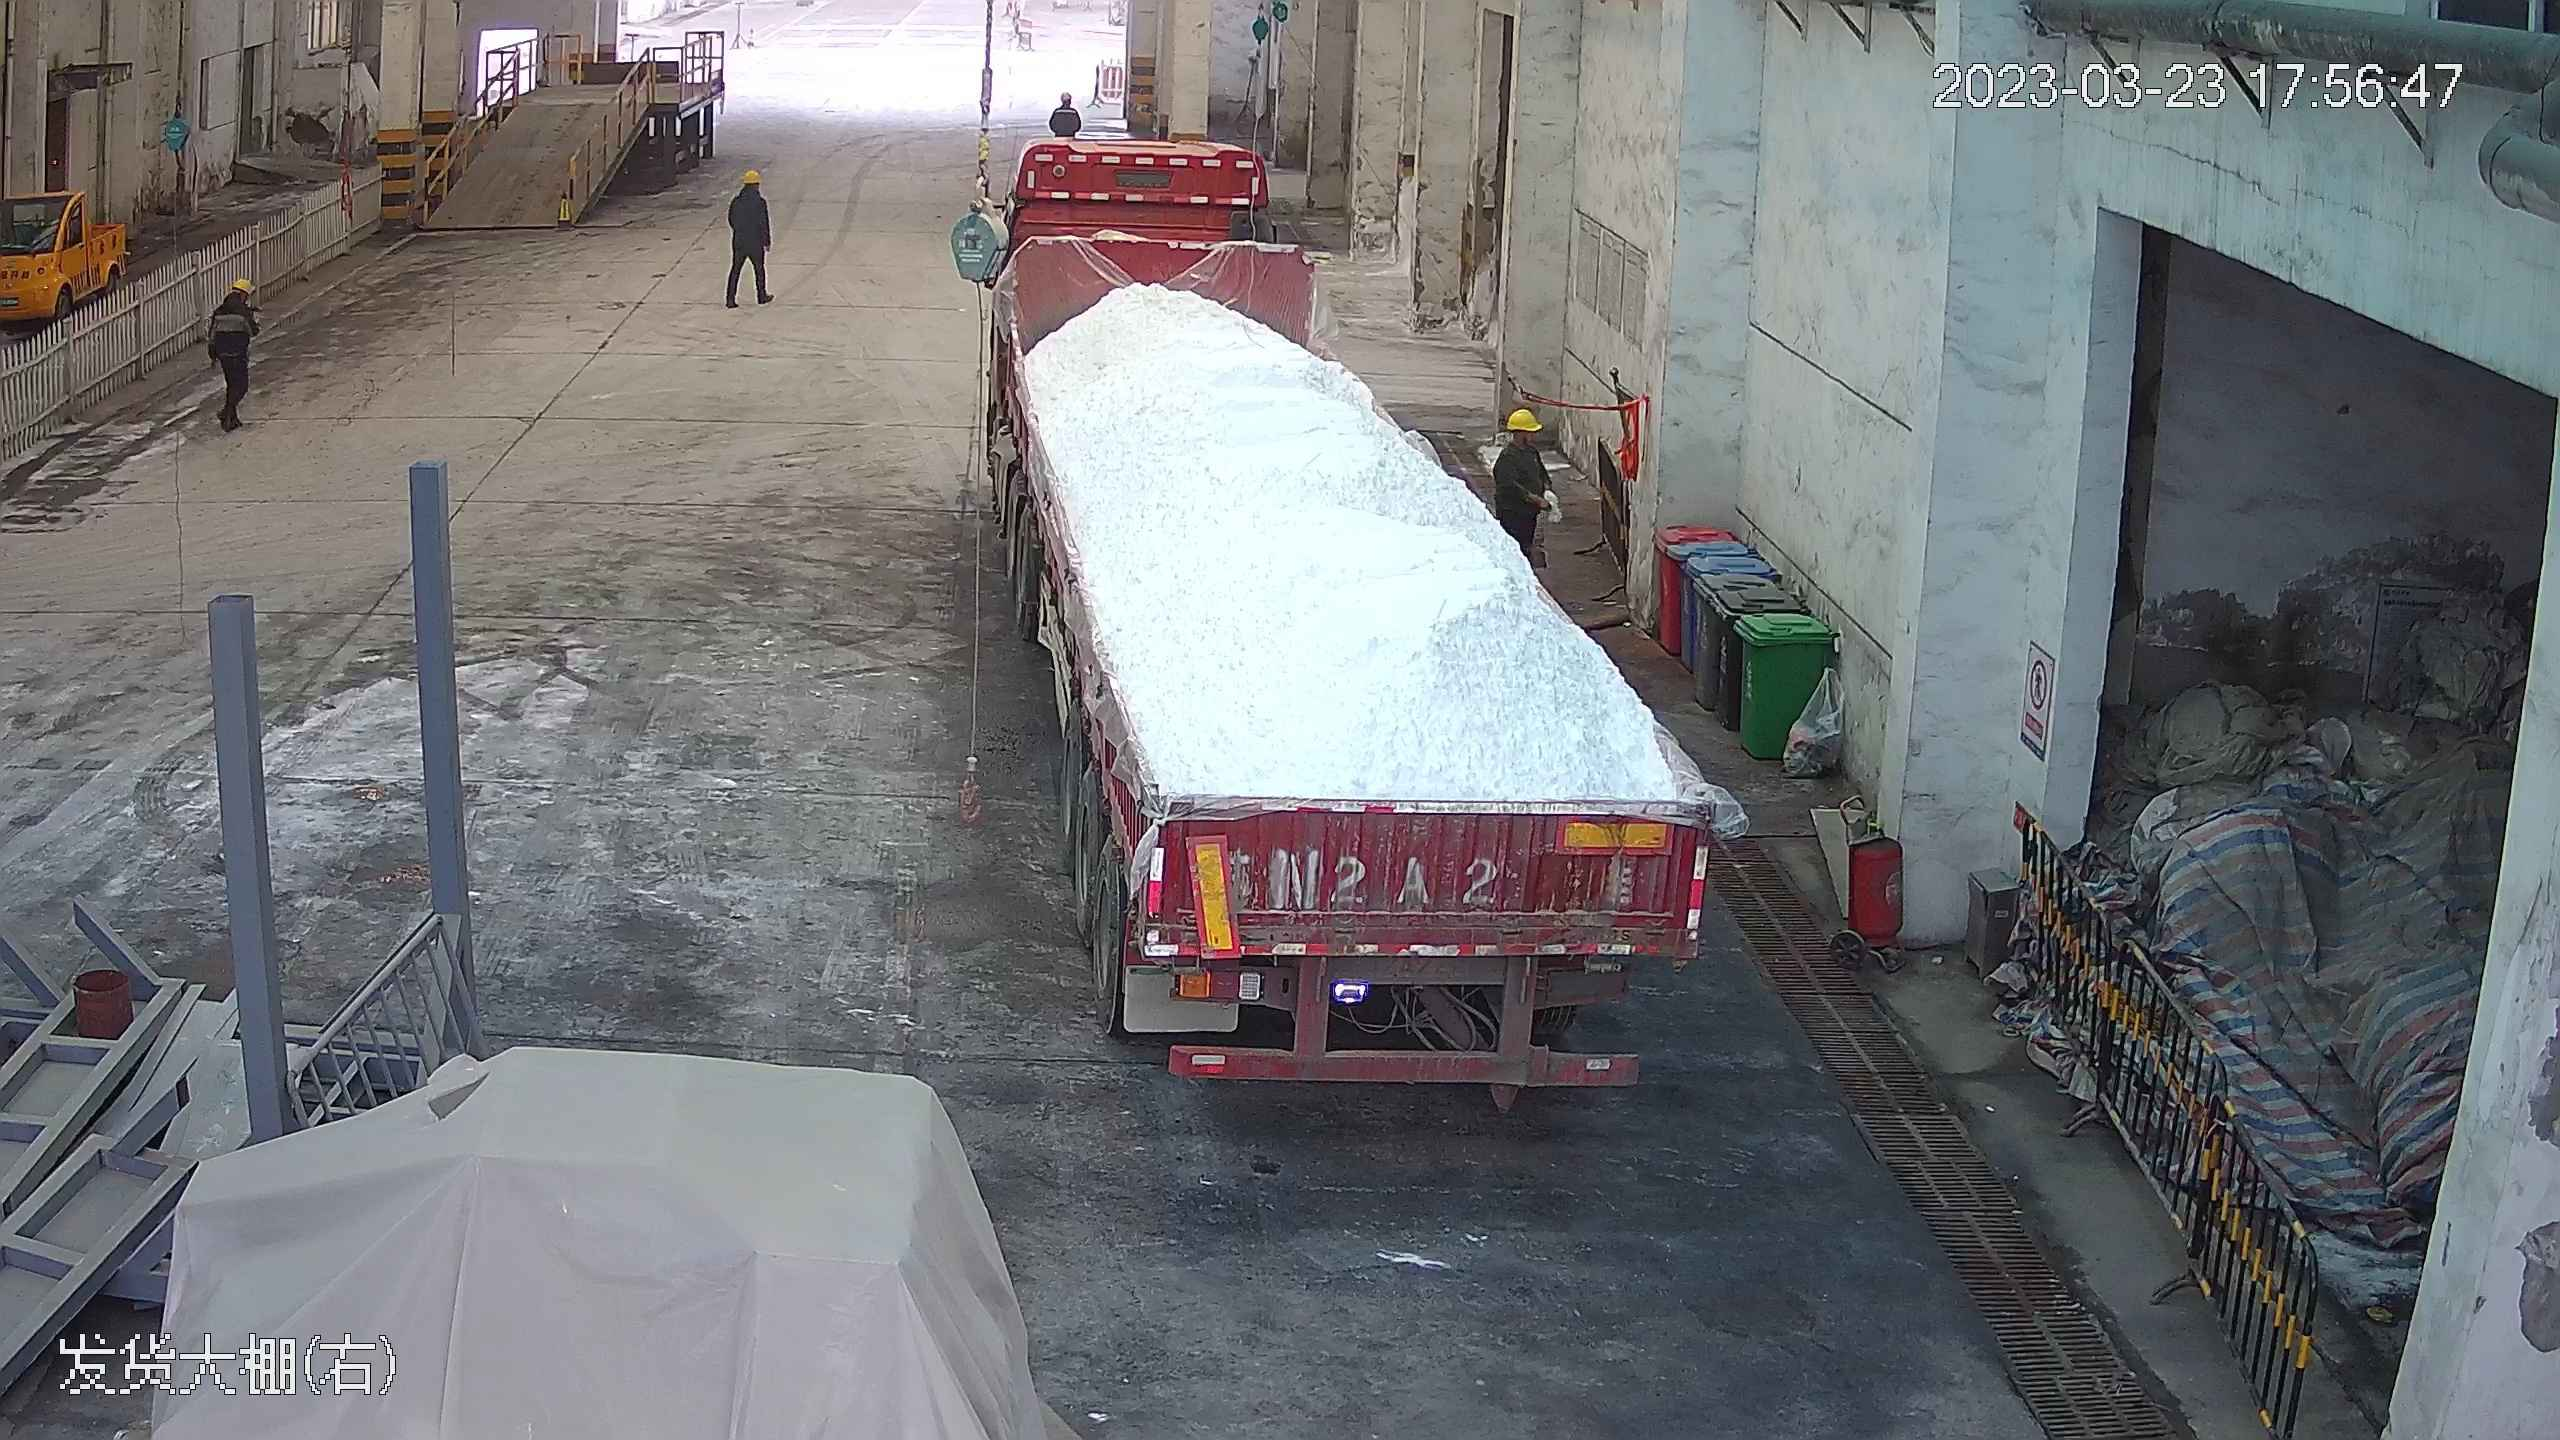head: (1494, 403, 1550, 478), (211, 274, 257, 328), (728, 163, 772, 211)
helmet: (1503, 402, 1544, 434), (226, 275, 252, 295), (737, 164, 759, 183)
people: (1489, 400, 1562, 572), (204, 275, 258, 436), (721, 162, 781, 306)
truck: (963, 126, 1719, 1100)
